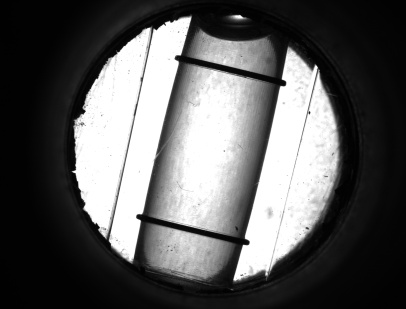line: (191, 54, 266, 87), (153, 213, 228, 245)
